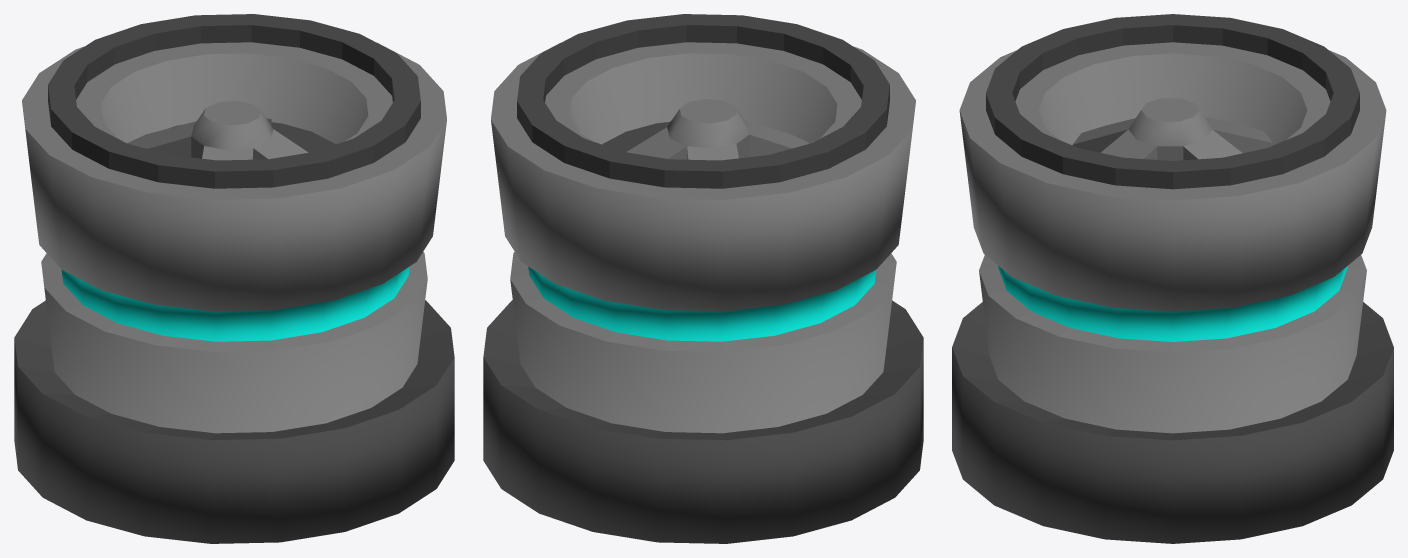
Rendered from Factory_Turbo_Fan.fbx.
The picture shows the model from 3 angles, left to right: view 1: azimuth 30°, elevation 25°; view 2: azimuth 150°, elevation 25°; view 3: azimuth 270°, elevation 25°; orthographic projection.
Parts seen in each view (by area): view 1: Turbo Fan; view 2: Turbo Fan; view 3: Turbo Fan.
Boxes of the visible parts, x1,y1,x2,y2 form: Turbo Fan: [14, 14, 454, 543]; Turbo Fan: [483, 14, 923, 543]; Turbo Fan: [952, 14, 1393, 543].
Size of the model in its own units: 908 by 811 by 908.
